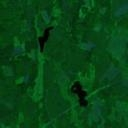alloviz: (68, 80, 89, 107), (37, 25, 55, 53)
